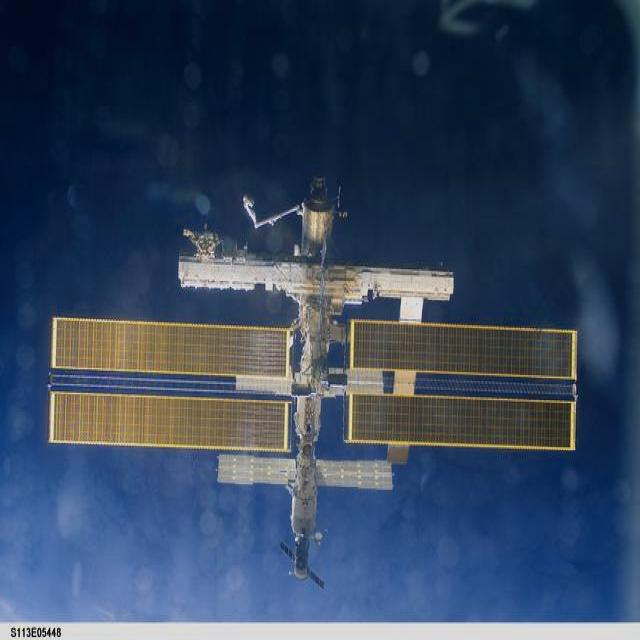medium_debris: (44, 168, 590, 594)
